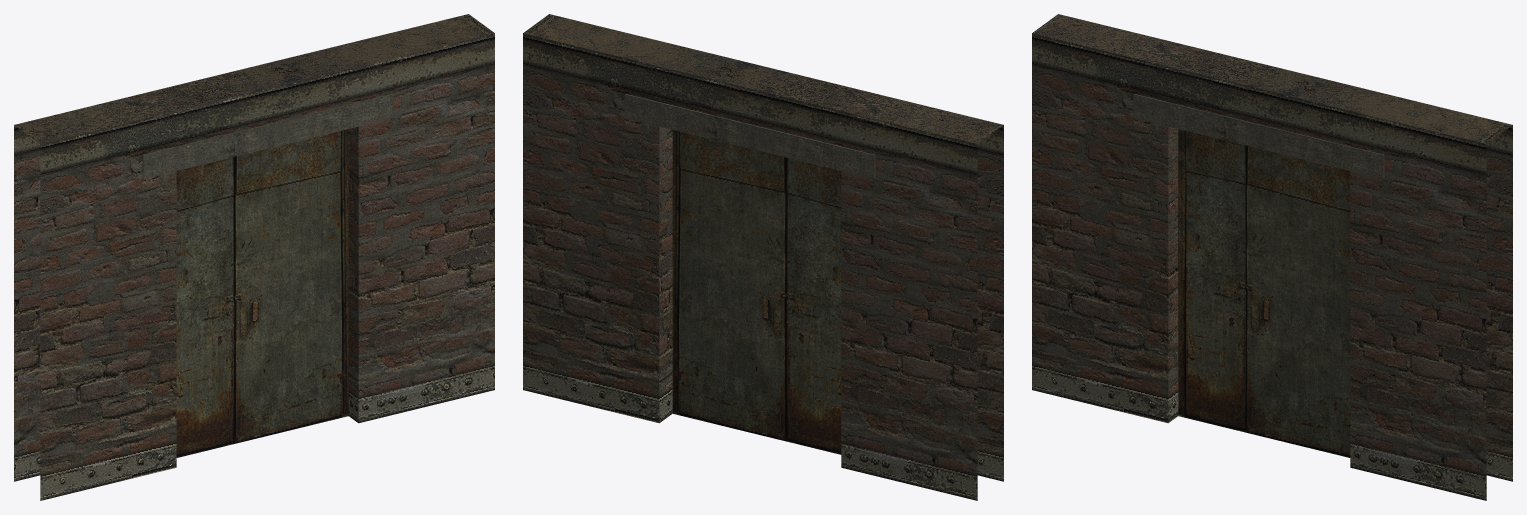
The model's file is doorway_hr_1_wide.glb.
The picture shows the model from 3 angles, left to right: view 1: azimuth 30°, elevation 25°; view 2: azimuth 150°, elevation 25°; view 3: azimuth 330°, elevation 25°; orthographic projection.
Visible parts, largest first — view 1: doorway_hr_1_wide, door_hm_1_piece_2, door_hm_1_piece_1; view 2: doorway_hr_1_wide, door_hm_1_piece_2, door_hm_1_piece_1; view 3: doorway_hr_1_wide, door_hm_1_piece_2, door_hm_1_piece_1.
Part boxes in pixels (left/top/right/bottom): doorway_hr_1_wide: left=14, top=14, right=494, bottom=500; door_hm_1_piece_2: left=235, top=129, right=348, bottom=443; door_hm_1_piece_1: left=176, top=157, right=234, bottom=457; doorway_hr_1_wide: left=523, top=14, right=1003, bottom=500; door_hm_1_piece_2: left=672, top=130, right=786, bottom=441; door_hm_1_piece_1: left=786, top=157, right=841, bottom=454; doorway_hr_1_wide: left=1032, top=14, right=1512, bottom=500; door_hm_1_piece_2: left=1246, top=145, right=1350, bottom=457; door_hm_1_piece_1: left=1178, top=129, right=1246, bottom=432.
Size of the model in its own units: 4 by 3 by 0.42.
Materials: 4 (4 with a texture image).
